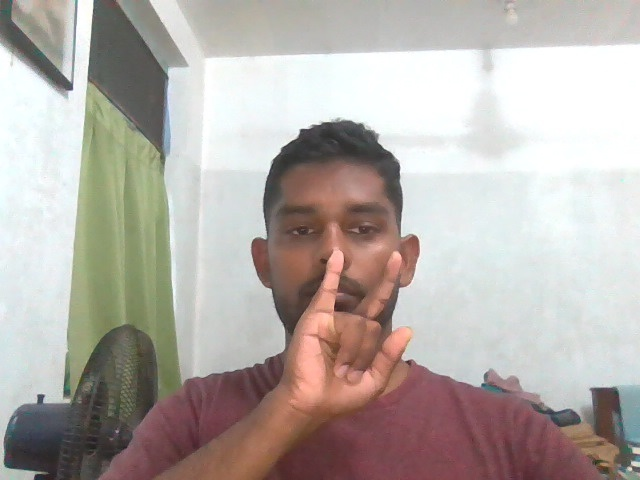hello: (267, 241, 416, 427)
